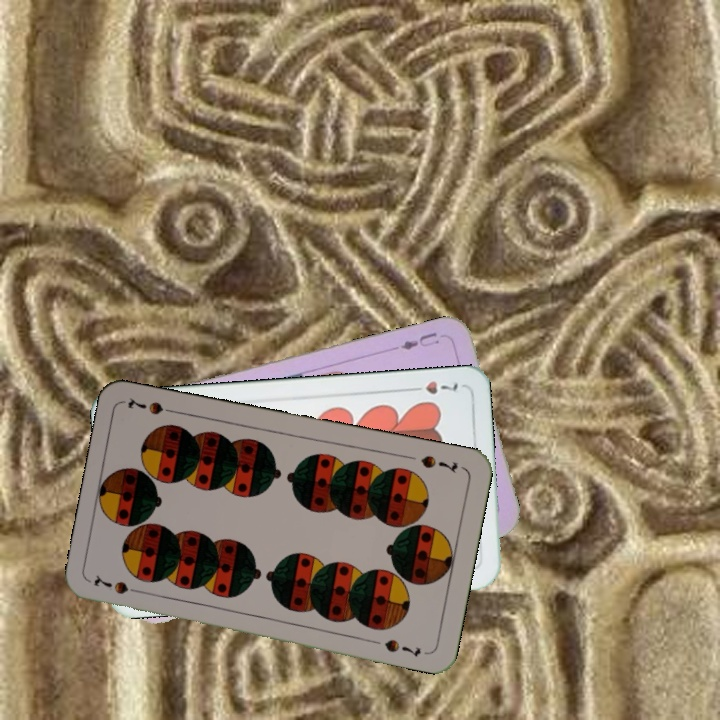EU: (397, 328, 441, 353)
H7: (404, 377, 461, 397)
S7: (90, 572, 147, 597), (416, 451, 461, 475)
